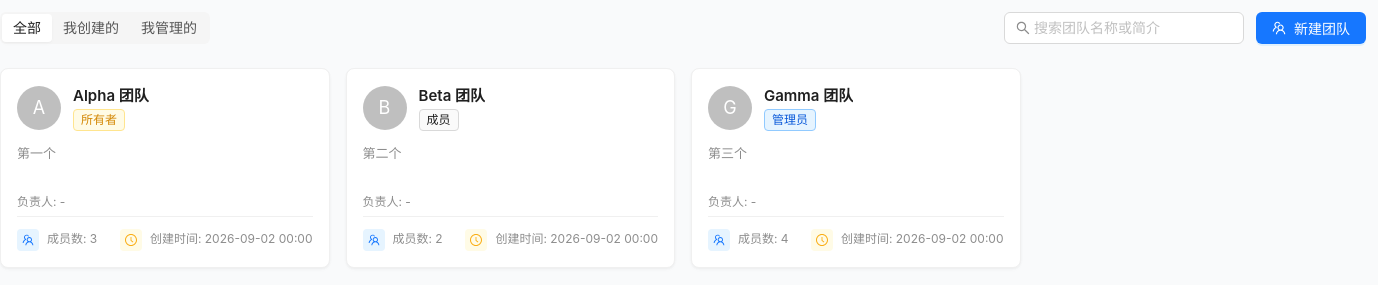
Scenario: Teams › 搜索可按团队名过滤
Expected: the text "Alpha 团队" is shown, [73,85,149,106]
Type "Beta" into the field with placeholder "搜索团队名称或简介" at coordinates (1125, 28), box [1034,17,1216,39]
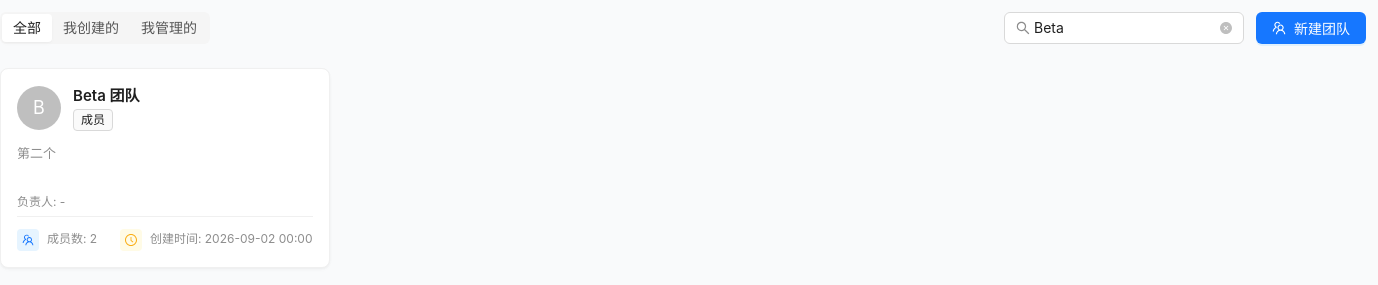
Expected: the text "Beta 团队" is shown, [73,85,140,106]
Expected: the text "Alpha 团队" is gone
Expected: the text "Gamma 团队" is gone
